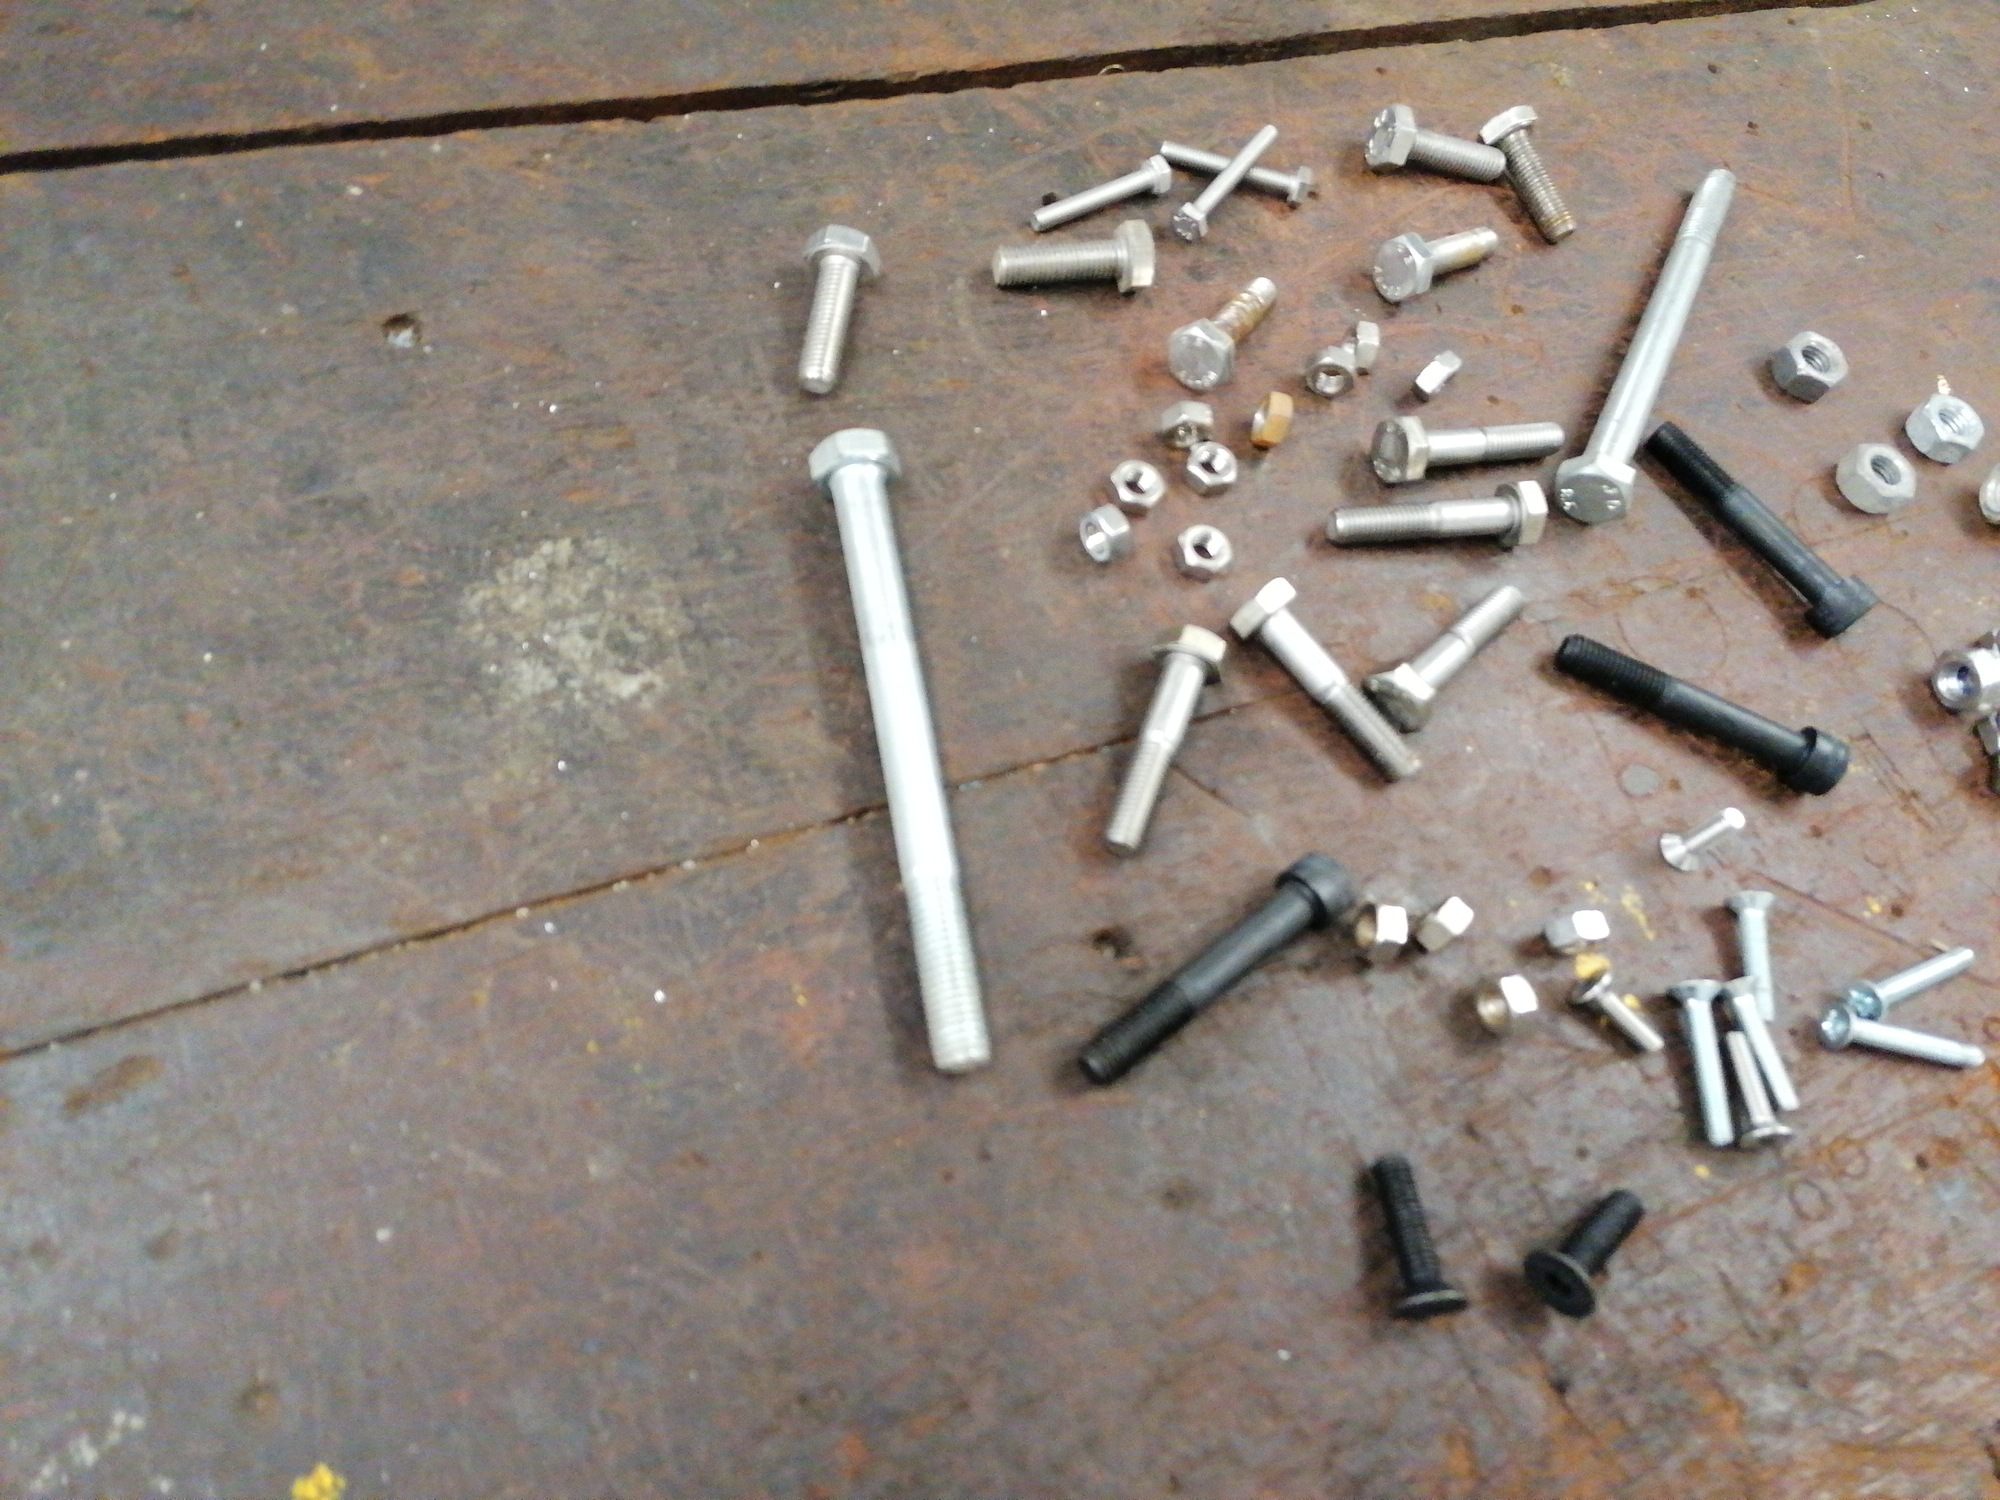bolt: (806, 425, 994, 1078), (1074, 849, 1354, 1086), (1553, 167, 1737, 526), (1643, 419, 1879, 640), (1553, 633, 1850, 796), (1228, 575, 1422, 786), (1099, 621, 1235, 856), (1359, 581, 1529, 734), (1370, 1152, 1471, 1320), (1520, 1185, 1647, 1317), (1326, 477, 1550, 550), (794, 224, 883, 395), (1476, 102, 1576, 244), (1367, 414, 1565, 484), (1165, 274, 1279, 392), (1169, 121, 1279, 241), (991, 217, 1157, 296), (1816, 997, 1986, 1071), (1362, 99, 1506, 183), (1668, 975, 1735, 1149), (1028, 151, 1172, 232), (1720, 975, 1802, 1114), (1159, 136, 1312, 210), (1370, 224, 1499, 303), (1844, 945, 1976, 1019), (1723, 1029, 1795, 1150), (1565, 967, 1665, 1054), (1723, 889, 1776, 1024), (1658, 804, 1746, 870)
nut: (1765, 328, 1850, 403), (1835, 441, 1917, 515), (1902, 391, 1986, 463), (1928, 648, 2000, 714), (1471, 971, 1540, 1038), (1409, 892, 1476, 960), (1353, 892, 1409, 966), (1172, 522, 1233, 581), (1104, 457, 1167, 515), (1539, 908, 1613, 956), (1074, 503, 1132, 562), (1181, 438, 1239, 496), (1301, 343, 1357, 400), (1154, 400, 1216, 451), (1411, 348, 1461, 402), (1249, 391, 1294, 449), (1343, 318, 1380, 377), (1973, 709, 1998, 759)
